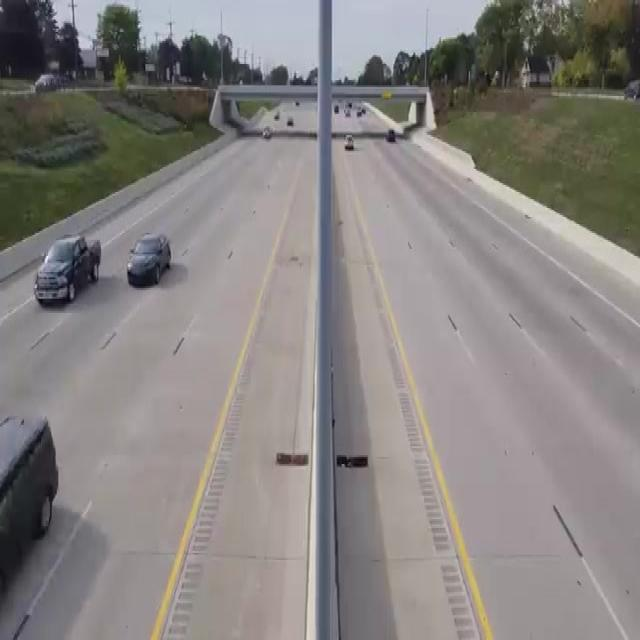car: (127, 226, 172, 295), (338, 130, 363, 156), (383, 125, 399, 152), (263, 123, 276, 149)
truck: (26, 226, 107, 316)
van: (0, 409, 73, 594)
